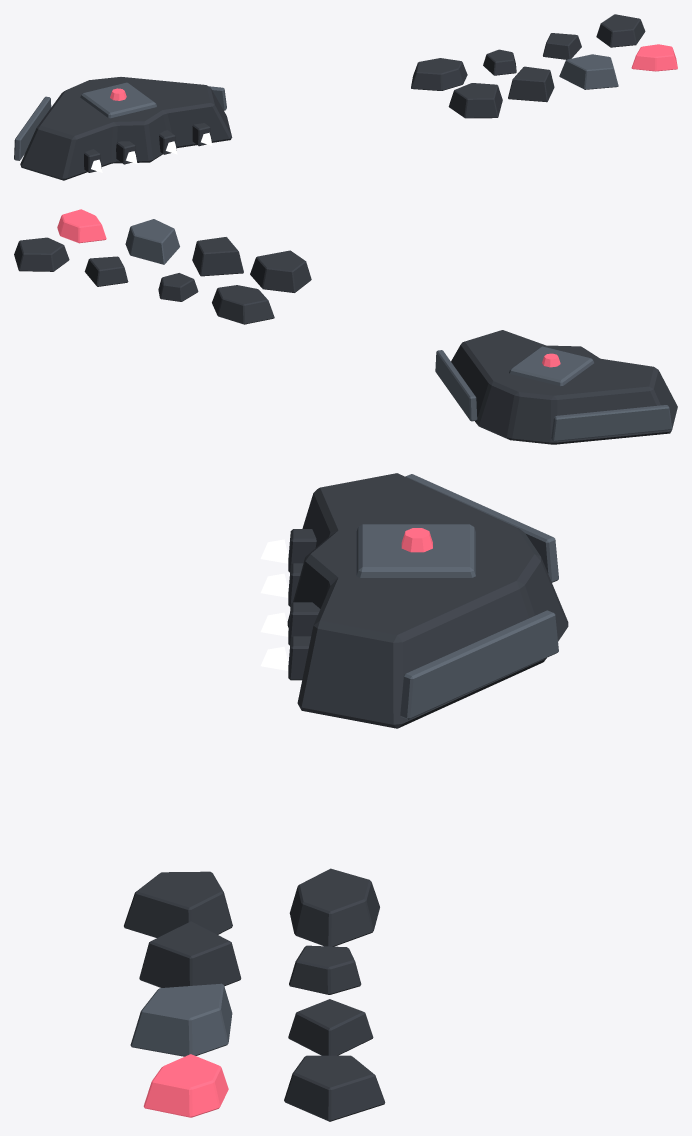
File: Enemy_Bomber_v4.fbx
The picture shows the model from 3 angles, top to bottom: view 1: azimuth 30°, elevation 25°; view 2: azimuth 150°, elevation 25°; view 3: azimuth 270°, elevation 25°; orthographic projection. The views are drawn at different scales.
Visible parts, largest first — view 1: Body, Enemy_Bomber_v4_Chunk_03, Enemy_Bomber_v4_Chunk_01, Enemy_Bomber_v4_Chunk_05, Hatch, Enemy_Bomber_v4_Chunk_02, Enemy_Bomber_v4_Chunk_08, Enemy_Bomber_v4_Chunk_04, Trim_EdgeL, Enemy_Bomber_v4_Chunk_07, Enemy_Bomber_v4_Chunk_06, Thruster_LC (+3 smaller); view 2: Body, Trim_EdgeL, Enemy_Bomber_v4_Chunk_01, Enemy_Bomber_v4_Chunk_05, Hatch, Enemy_Bomber_v4_Chunk_03, Enemy_Bomber_v4_Chunk_02, Enemy_Bomber_v4_Chunk_08, Trim_EdgeR, Enemy_Bomber_v4_Chunk_04, Enemy_Bomber_v4_Chunk_07, Enemy_Bomber_v4_Chunk_06; view 3: Body, Trim_EdgeR, Enemy_Bomber_v4_Chunk_03, Hatch, Enemy_Bomber_v4_Chunk_05, Enemy_Bomber_v4_Chunk_01, Enemy_Bomber_v4_Chunk_02, Enemy_Bomber_v4_Chunk_08, Enemy_Bomber_v4_Chunk_04, Enemy_Bomber_v4_Chunk_07, Enemy_Bomber_v4_Chunk_06, Trim_EdgeL (+1 smaller).
Boxes of the visible parts, x1,y1,x2,y2 form: Body: (20,77,232,180); Enemy_Bomber_v4_Chunk_03: (559,54,618,89); Enemy_Bomber_v4_Chunk_01: (448,83,502,118); Enemy_Bomber_v4_Chunk_05: (411,58,467,90); Hatch: (80,82,156,118); Enemy_Bomber_v4_Chunk_02: (508,66,554,102); Enemy_Bomber_v4_Chunk_08: (596,14,645,47); Enemy_Bomber_v4_Chunk_04: (631,44,677,71); Trim_EdgeL: (14,96,51,160); Enemy_Bomber_v4_Chunk_07: (543,33,581,59); Enemy_Bomber_v4_Chunk_06: (483,49,516,75); Thruster_LC: (116,141,136,164); Body: (451,330,677,444); Trim_EdgeL: (551,405,672,441); Enemy_Bomber_v4_Chunk_01: (250,250,311,292); Enemy_Bomber_v4_Chunk_05: (212,285,274,324); Hatch: (509,346,593,386); Enemy_Bomber_v4_Chunk_03: (125,219,179,264); Enemy_Bomber_v4_Chunk_02: (192,237,243,276); Enemy_Bomber_v4_Chunk_08: (14,237,69,271); Trim_EdgeR: (435,350,477,421); Enemy_Bomber_v4_Chunk_04: (57,209,106,243); Enemy_Bomber_v4_Chunk_07: (84,256,128,286); Enemy_Bomber_v4_Chunk_06: (158,273,198,301); Body: (287,473,568,728); Trim_EdgeR: (400,610,558,719); Enemy_Bomber_v4_Chunk_03: (130,983,232,1056); Hatch: (356,524,475,577); Enemy_Bomber_v4_Chunk_05: (289,868,379,946); Enemy_Bomber_v4_Chunk_01: (124,871,232,937); Enemy_Bomber_v4_Chunk_02: (139,921,241,987); Enemy_Bomber_v4_Chunk_08: (284,1055,385,1121); Enemy_Bomber_v4_Chunk_04: (143,1054,228,1117); Enemy_Bomber_v4_Chunk_07: (288,999,373,1055); Enemy_Bomber_v4_Chunk_06: (289,945,361,994); Trim_EdgeL: (405,474,558,582).
Bounding box in the file's own units: 6.12 × 0.46 × 1.93.
